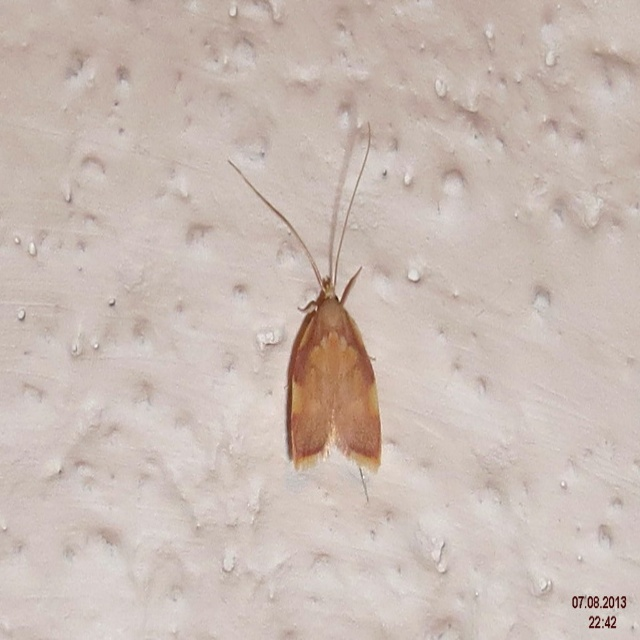Moths and butterflies: (227, 119, 384, 480)
